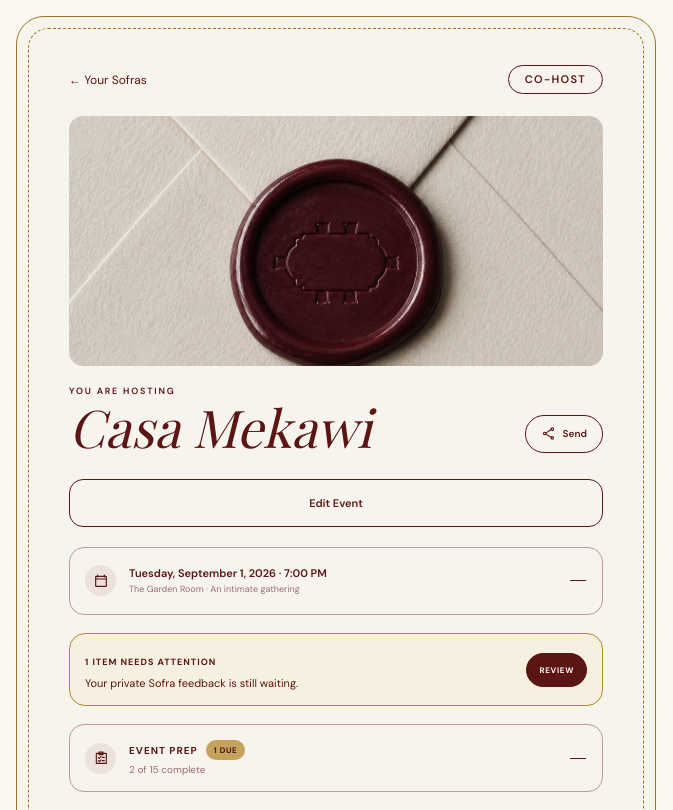
Test case: Copy invite link button › shows "Copy invite link" button when user is the host
Click the button "Send": point(564, 434) left=525, top=415, right=603, bottom=453
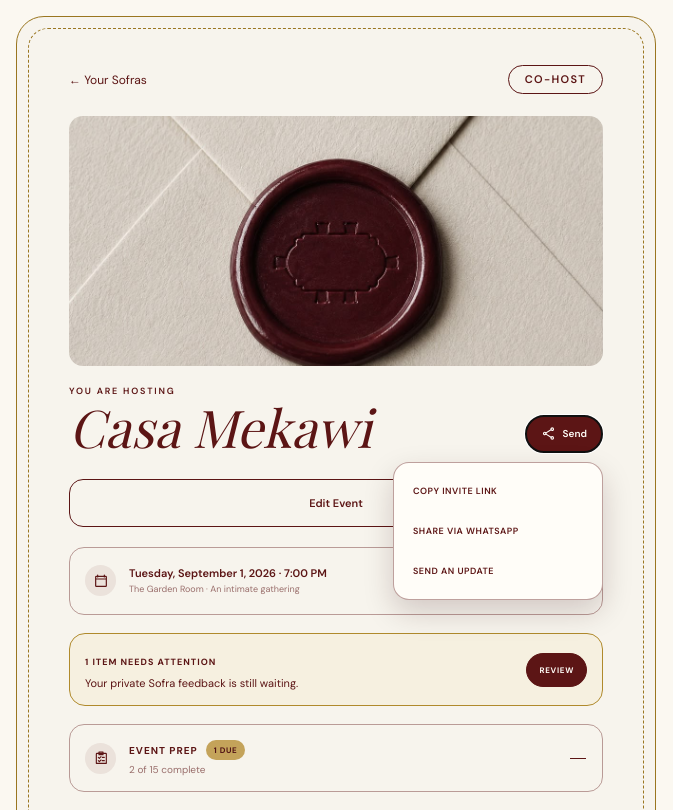
expect the button "COPY INVITE LINK" is shown: met, box left=402, top=471, right=594, bottom=511
